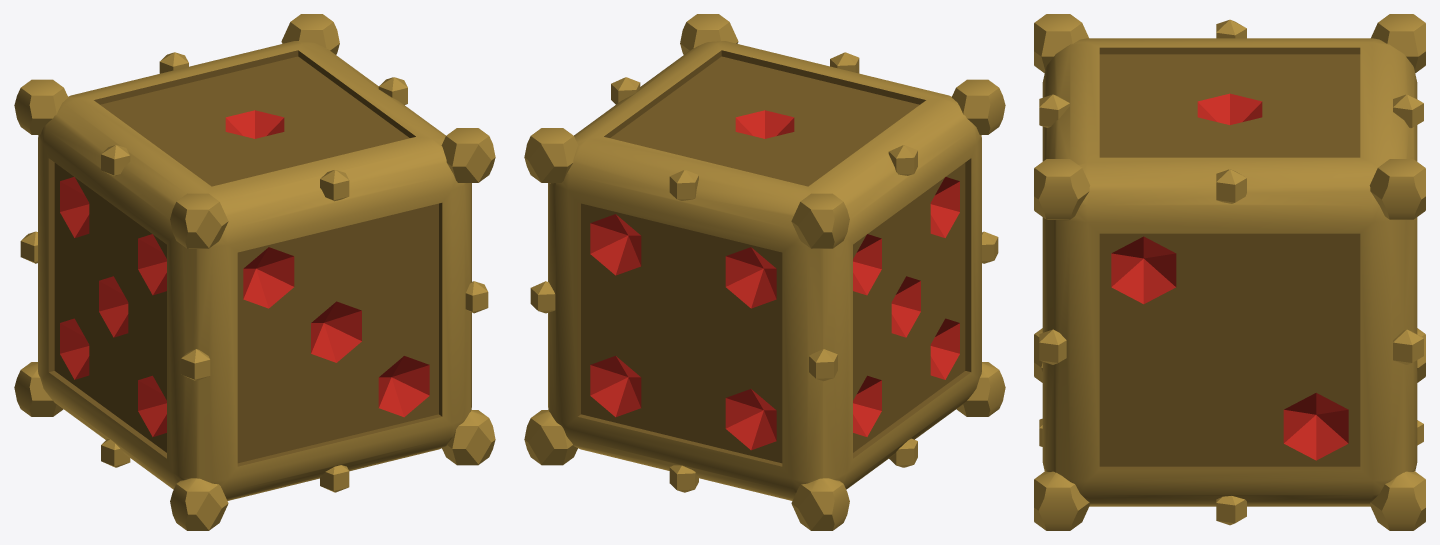
File: gilded_d6.glb
3 views of the same model, side by side, from view 1: azimuth 30°, elevation 25°; view 2: azimuth 150°, elevation 25°; view 3: azimuth 270°, elevation 25° (orthographic). The views are drawn at different scales.
Parts seen in each view (by area): view 1: GildedD6; view 2: GildedD6; view 3: GildedD6.
Boxes of the visible parts, box(x1,y1,x2,y2) form: GildedD6: box(14, 14, 495, 530); GildedD6: box(524, 14, 1005, 530); GildedD6: box(1034, 14, 1425, 530).
Size of the model in its own units: 0.0836 by 0.0836 by 0.0836.
